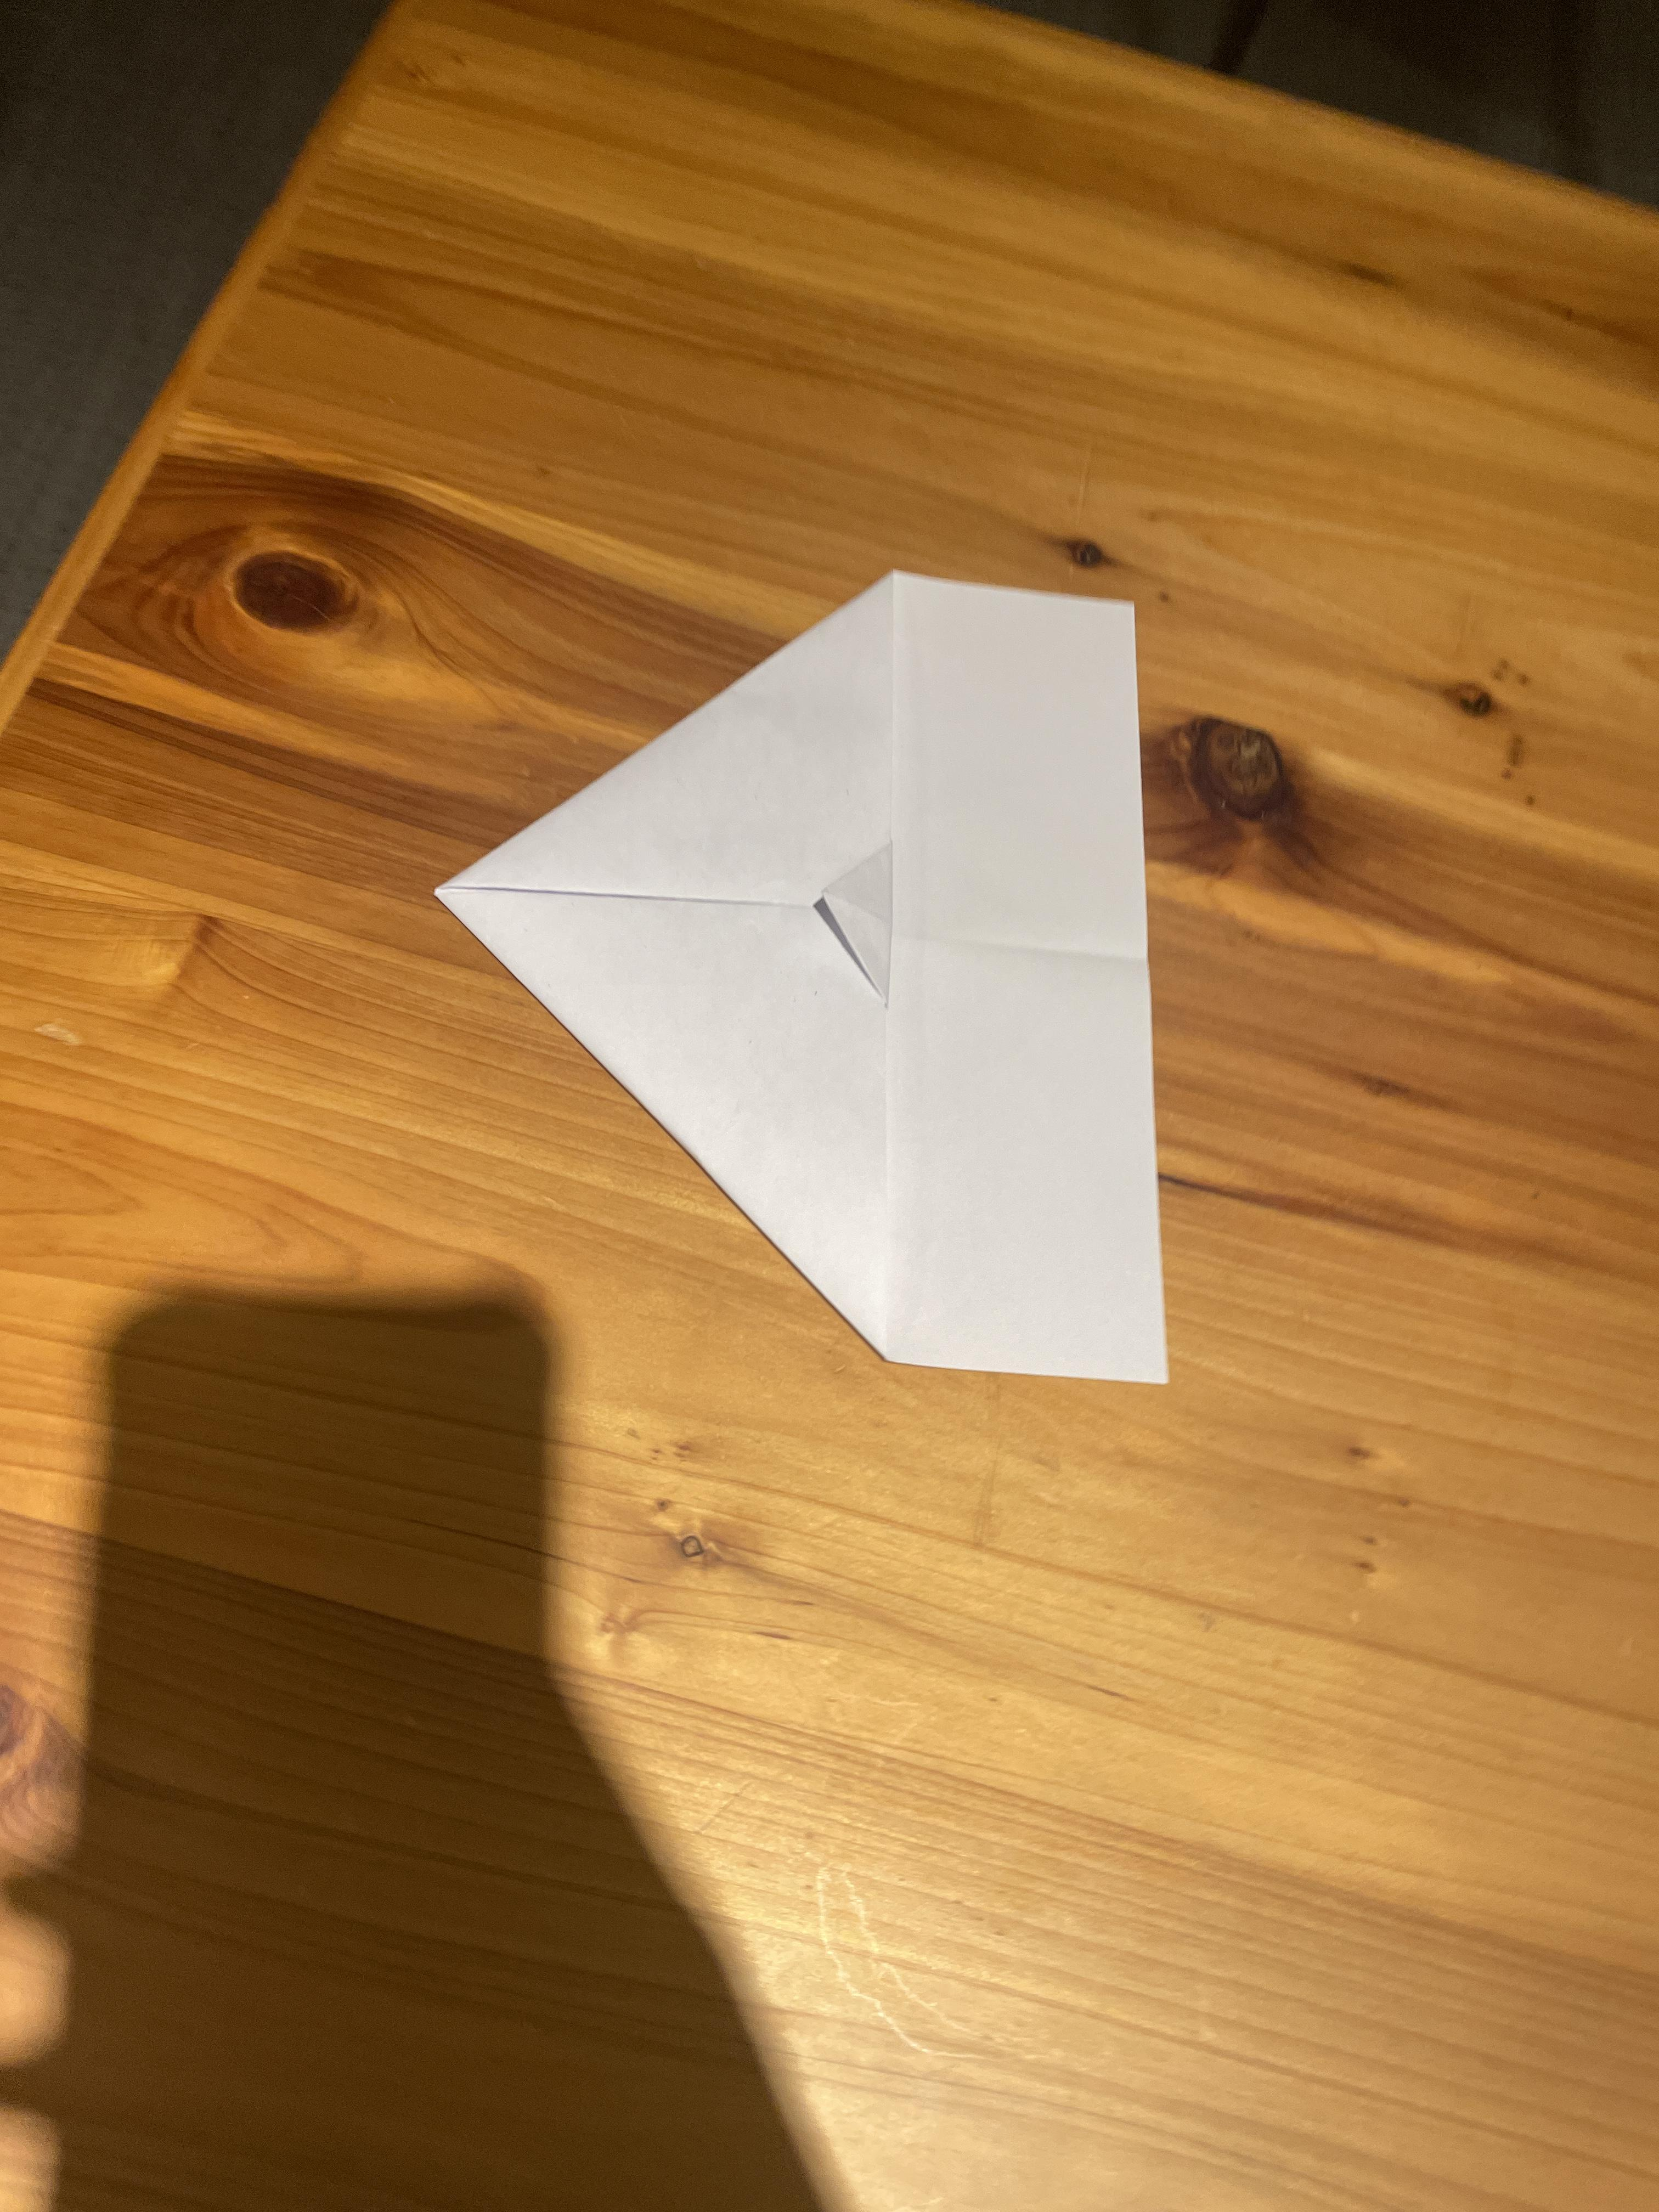shape_2: (424, 456, 1351, 1437)
